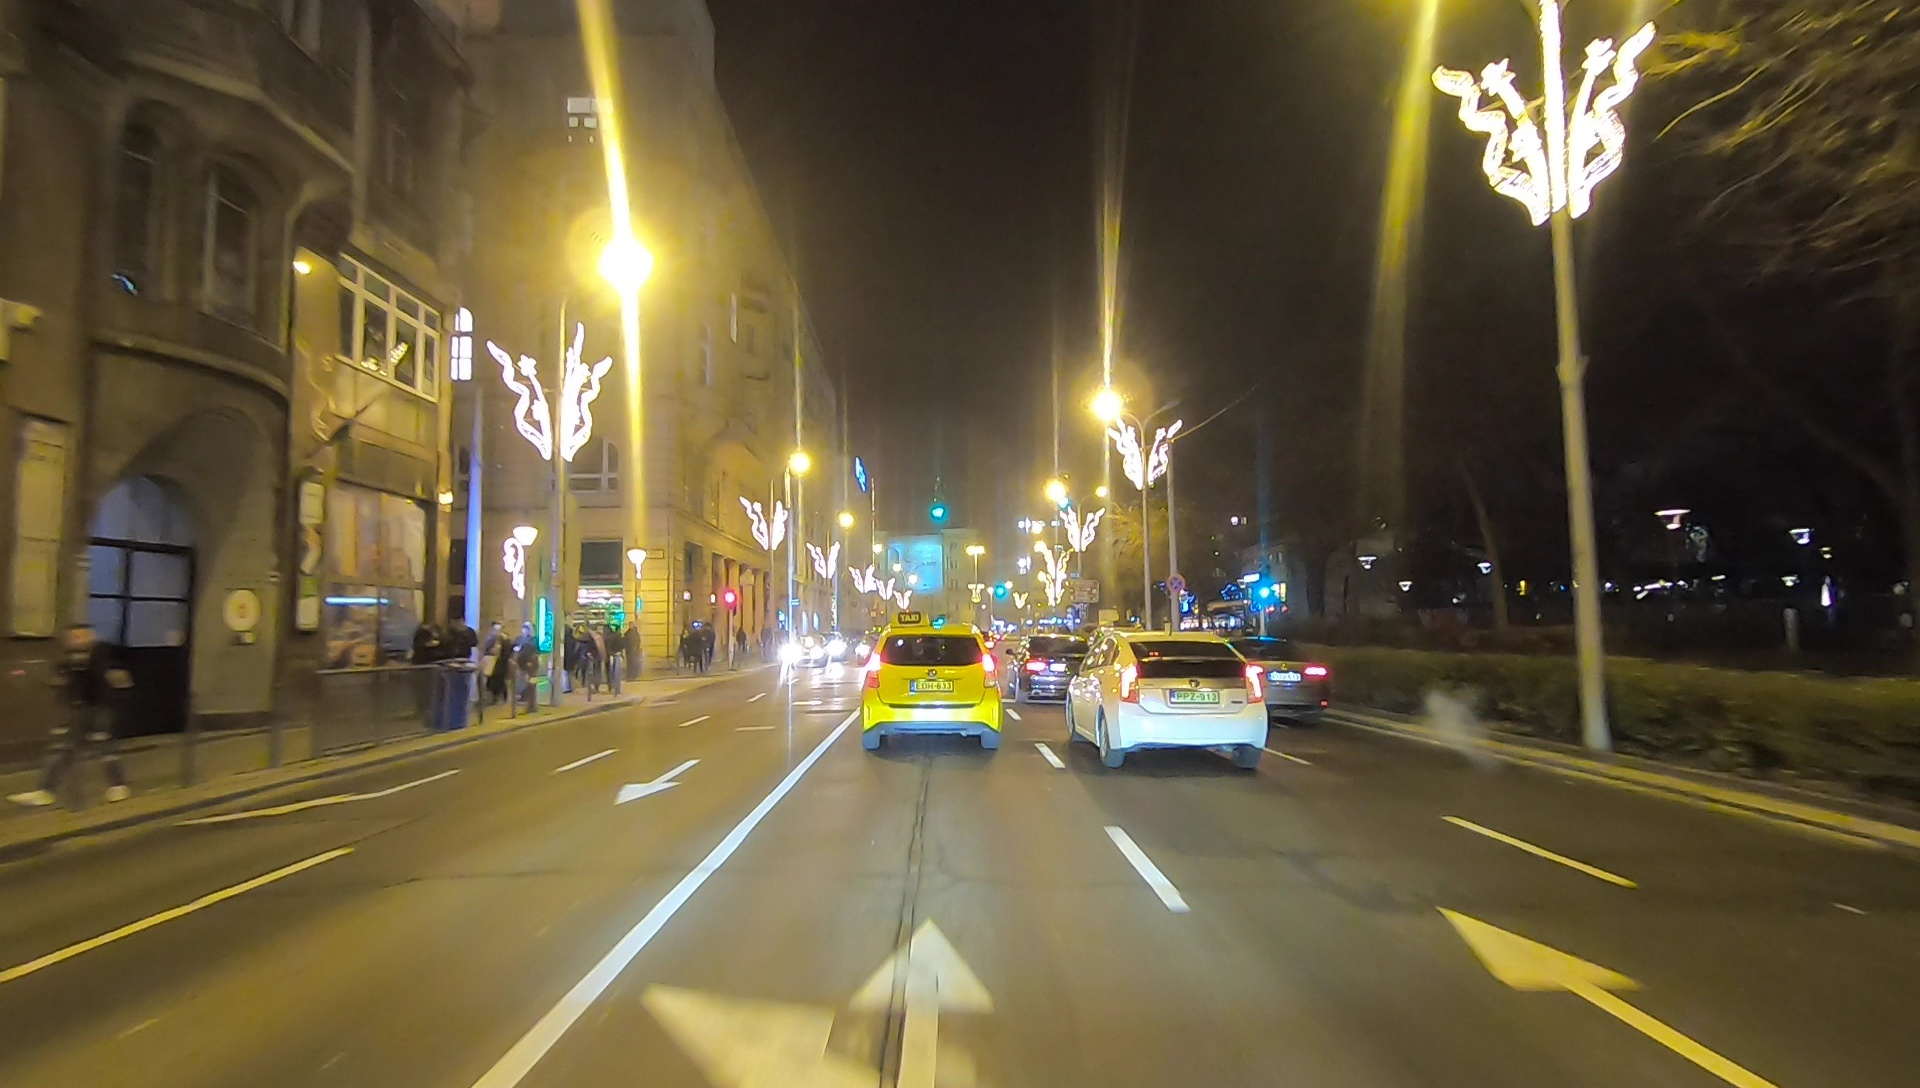person: (47, 630, 132, 817), (436, 615, 480, 739), (408, 619, 438, 732), (480, 626, 510, 710)
